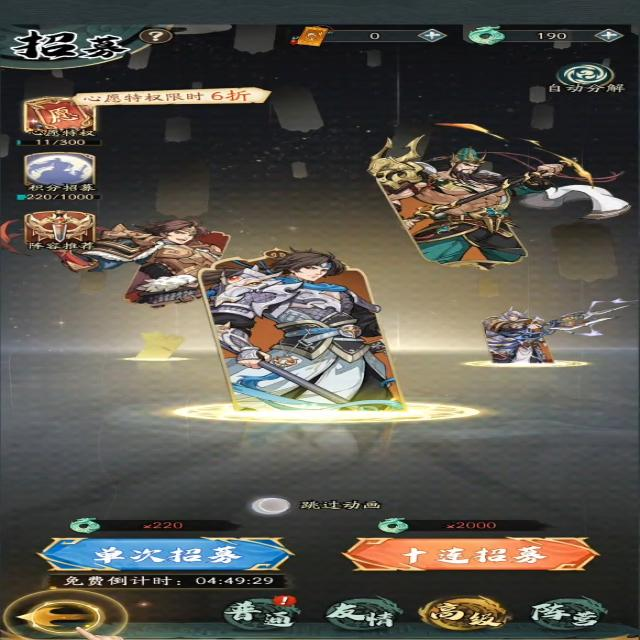hint-guide: (5, 590, 130, 640)
hint-reddot: (269, 593, 300, 607)
operation-back: (16, 605, 102, 627)
operation-singleRecruit: (32, 535, 299, 576)
operation-tenRecruit: (338, 534, 607, 573)
